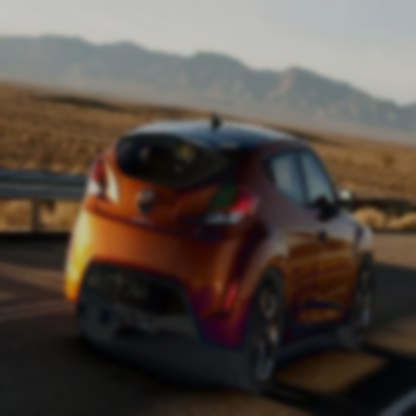Vehicle: (63, 111, 376, 393)
